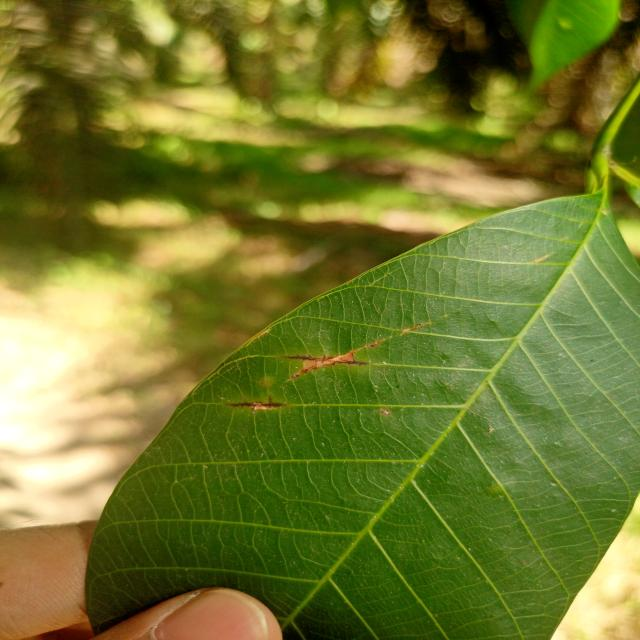Corynespora: (285, 354, 369, 366), (226, 396, 286, 411)
